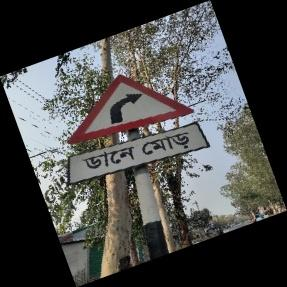Right-turn: (65, 74, 208, 186)
